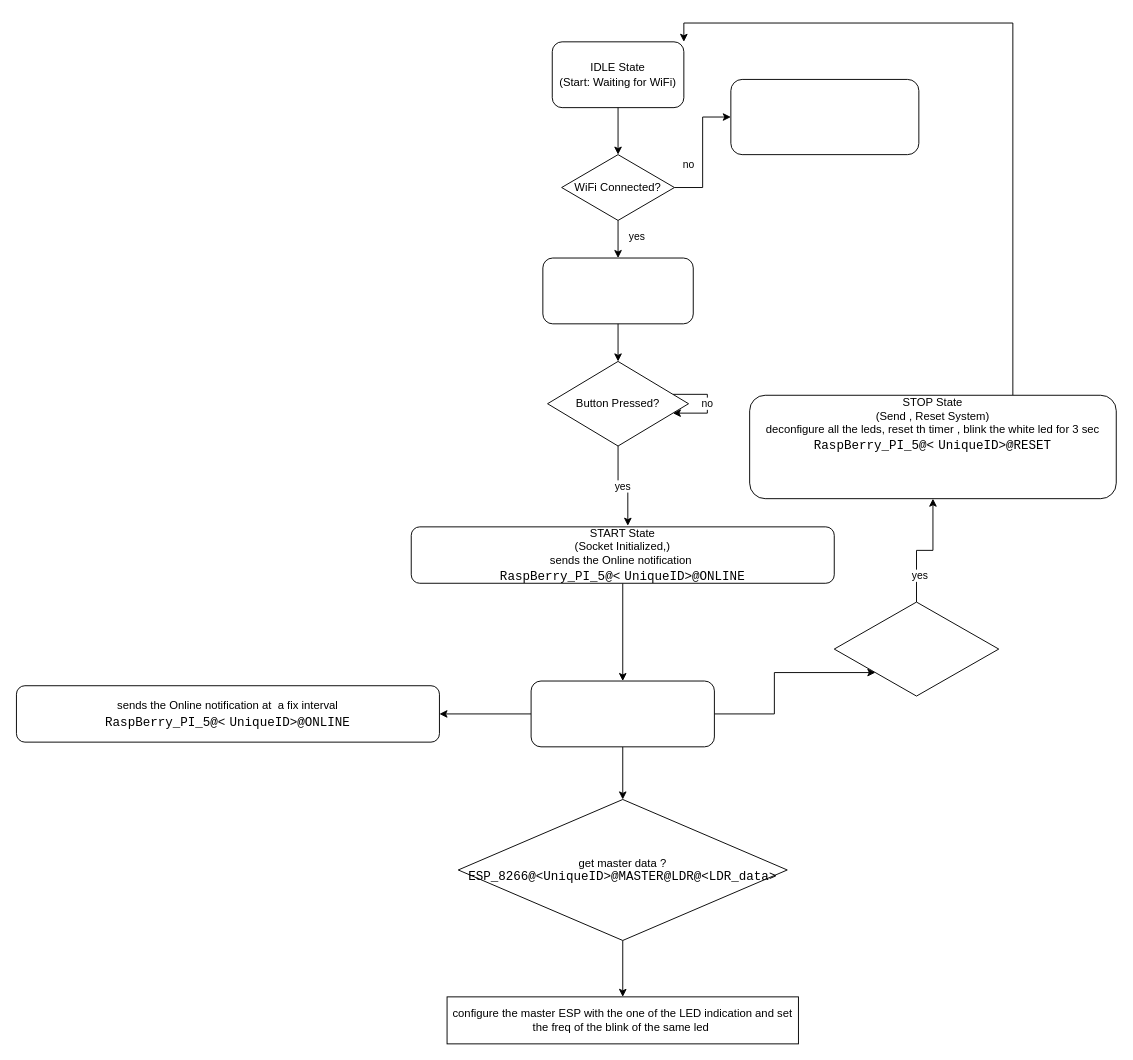
Image size: 1133x1060. Some labels were removed from this diagram. Here are the shapes that lost their labels. From the top down, the centre of each, then its label:
point 824,116: Reconnect to WiFi and retry
point 617,290: WIFI_CONNECTED State (Waiting for Button Press)
point 916,648: if button pressed
point 622,713: START State Receiving Sensor Data and handling the data )
